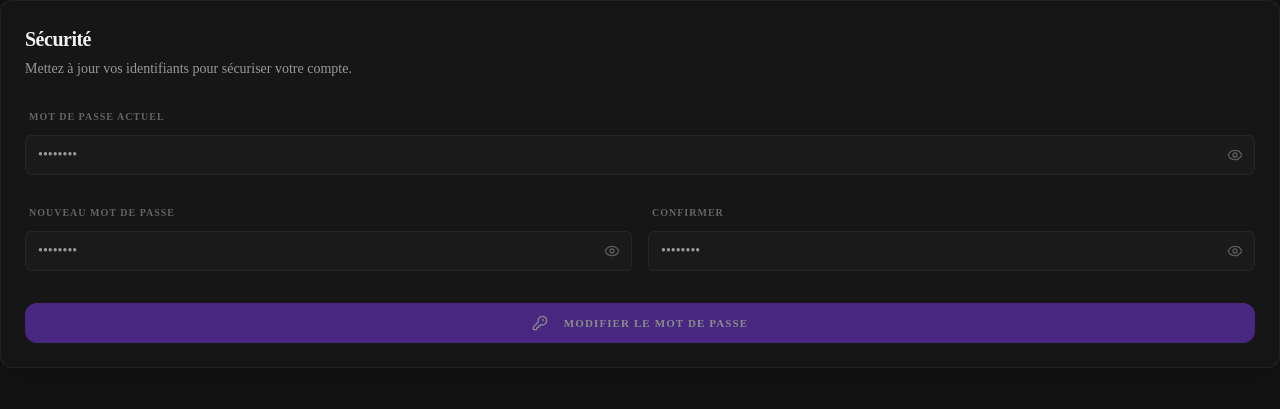
Test: SecurityForm › should show error when passwords do not match
This screenshot has width=1280, height=409.
Step 1. Type "oldpassword" into the password field labelled "Mot de passe actuel" → (640, 155), box [25,135,1255,175]
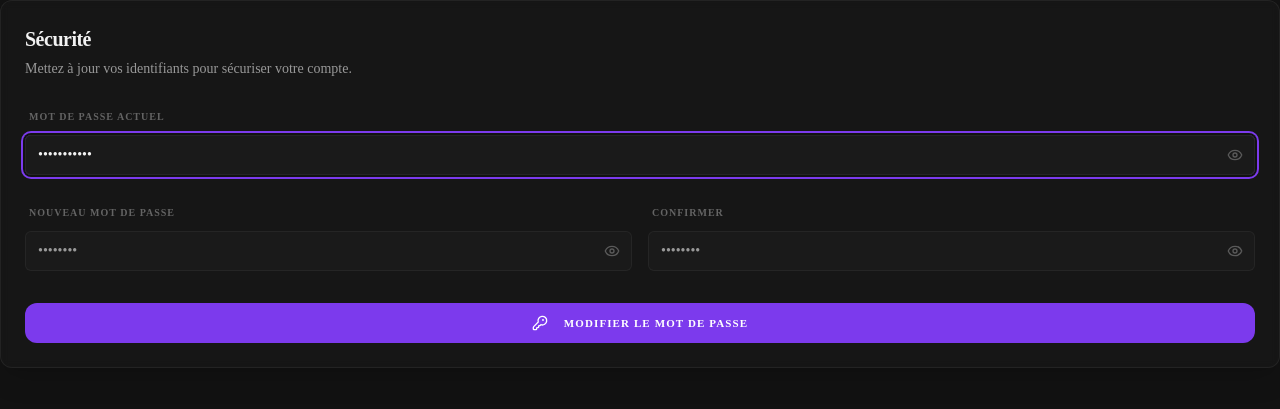
Step 2. Type "newpassword123" into the password field labelled "Nouveau mot de passe" → (328, 251), box [25,231,632,271]
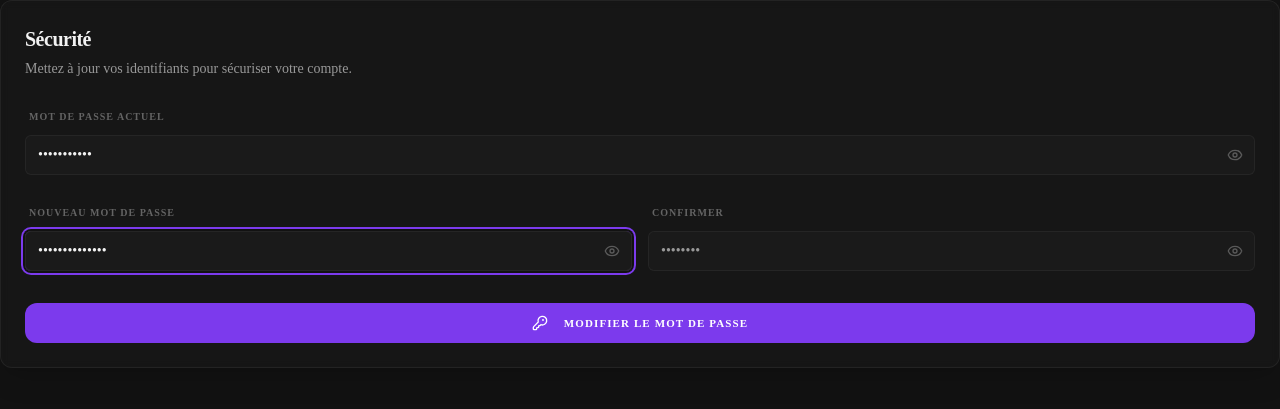
Step 3. Type "differentpassword" into the password field labelled "Confirmer" → (952, 251), box [648,231,1255,271]
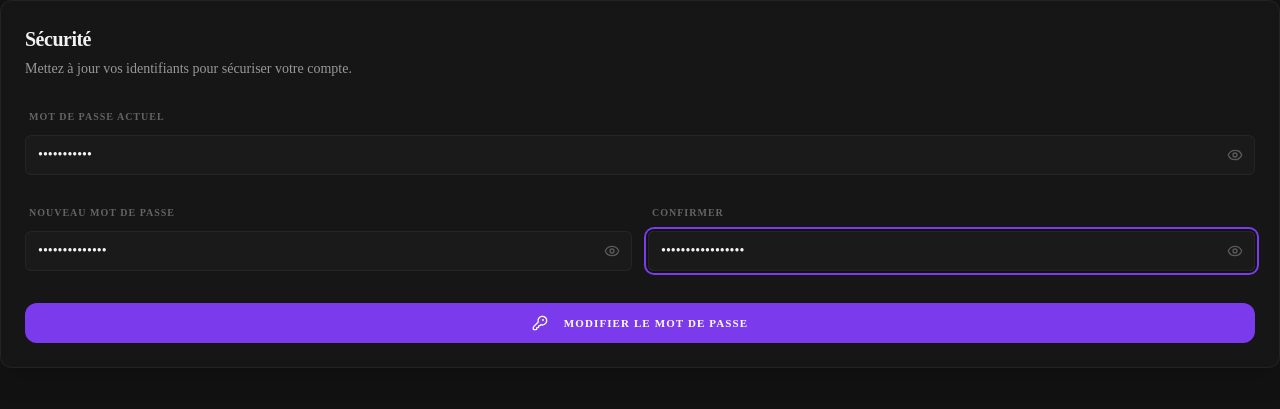
Step 4. Click the button "Modifier le mot de passe" → (640, 323), box [25,303,1255,343]
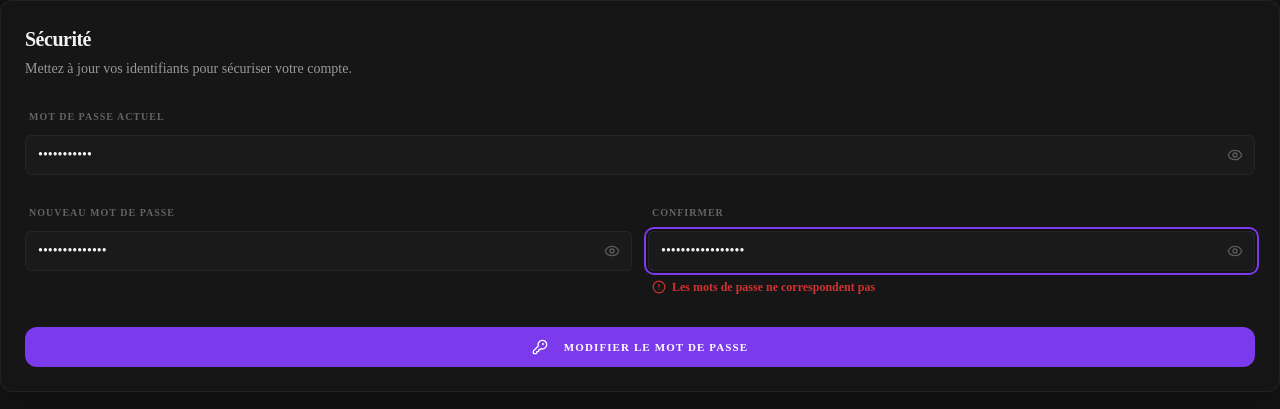
Now the text "Les mots de passe ne correspondent pas" is shown, box [672,279,875,295]
